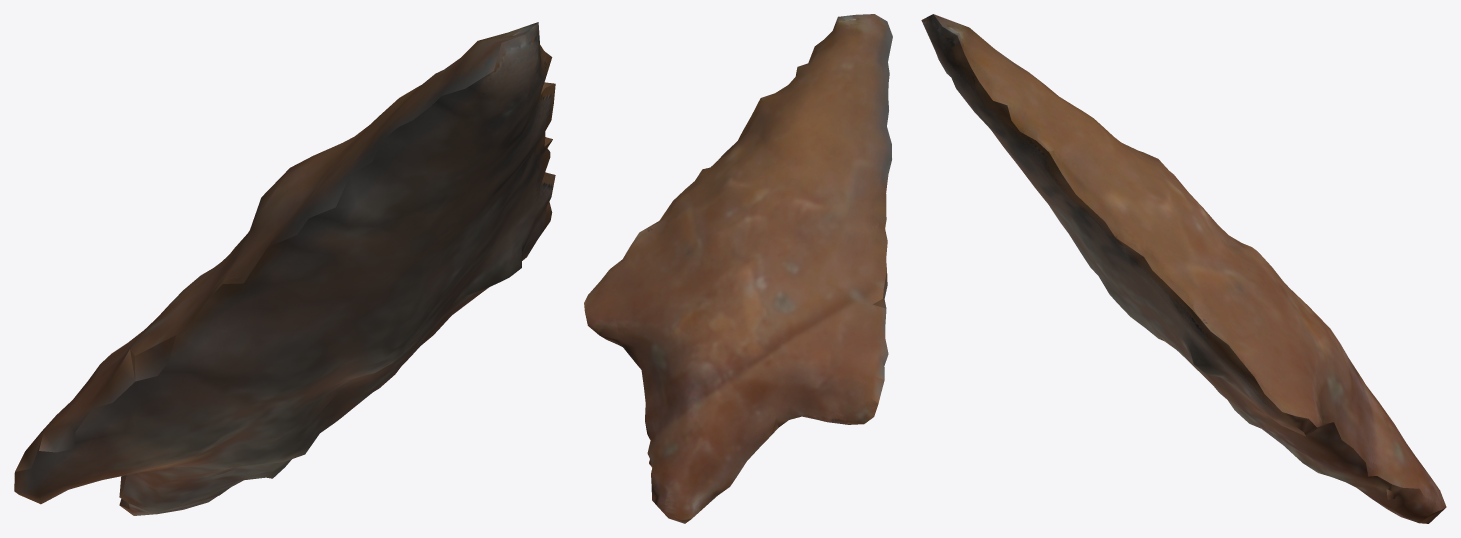
The model's file is arrowhead271407.glb.
The picture shows the model from 3 angles, left to right: view 1: azimuth 30°, elevation 25°; view 2: azimuth 150°, elevation 25°; view 3: azimuth 270°, elevation 25°; orthographic projection. The views are drawn at different scales.
Parts seen in each view (by area): view 1: Object_2; view 2: Object_2; view 3: Object_2.
Part boxes in pixels (left/top/right/bottom): Object_2: left=14, top=22, right=555, bottom=515; Object_2: left=584, top=14, right=892, bottom=523; Object_2: left=921, top=14, right=1446, bottom=523.
Size of the model in its own units: 15.55 by 19.9 by 19.02.
1 material, 1 textured.
